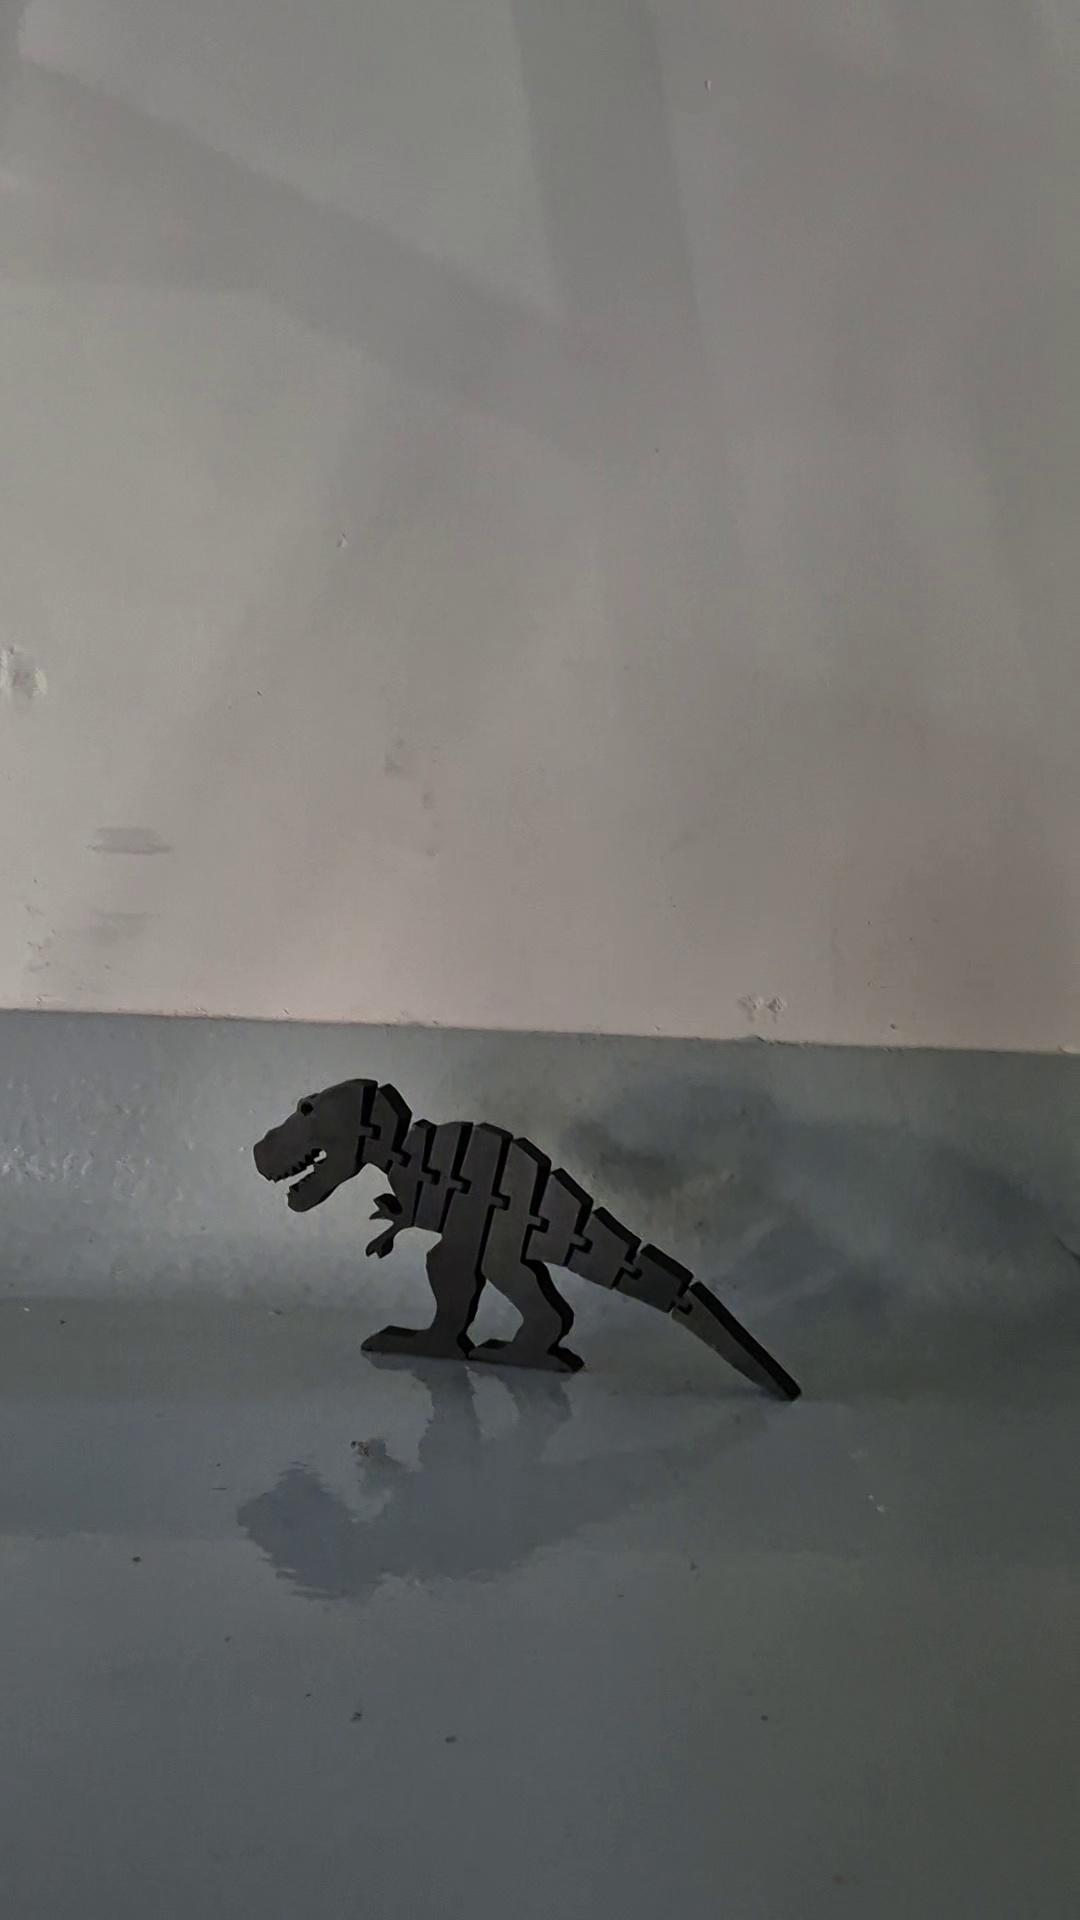dinosaur: (249, 1076, 804, 1404)
